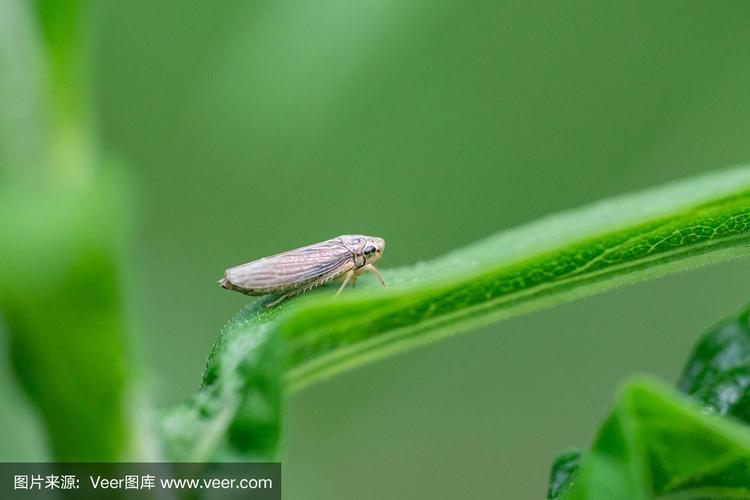Cicadellidae: (217, 234, 386, 307)
